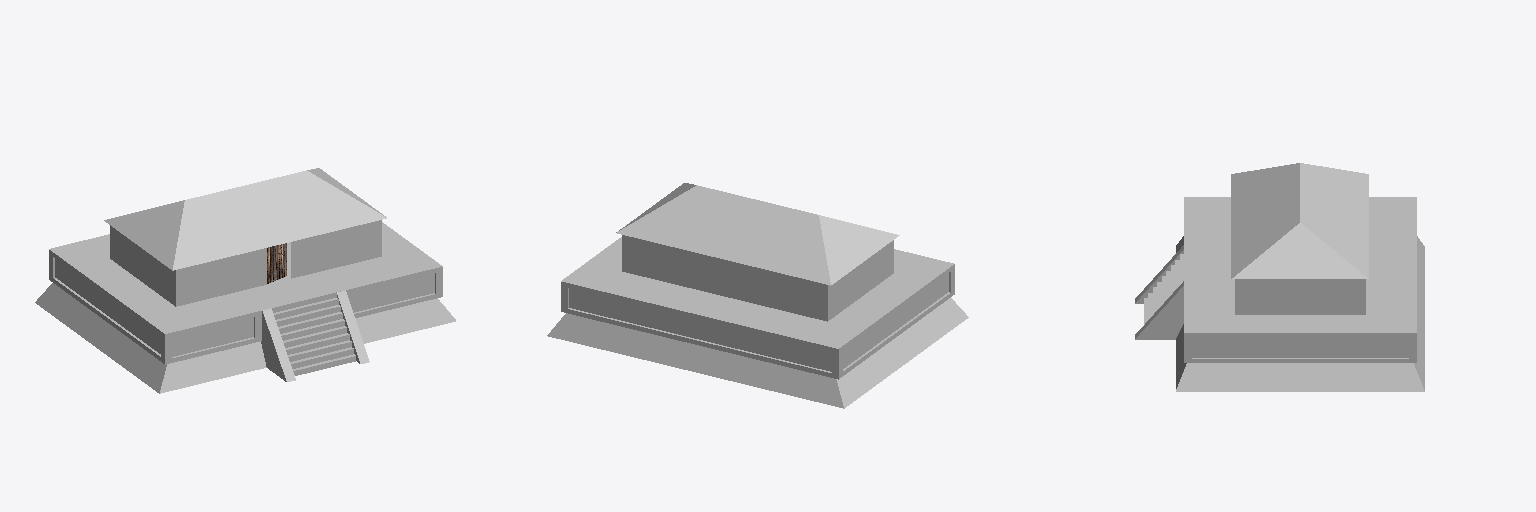
3 renders of one model, left to right at view 1: azimuth 30°, elevation 25°; view 2: azimuth 150°, elevation 25°; view 3: azimuth 270°, elevation 25°, orthographic.
Visible parts, largest first — view 1: Plane.001, Rancho_techo_, Plane, Plane.003, Plane.002, Plane.004, Puerta; view 2: Plane.001, Rancho_techo_, Plane, Plane.003; view 3: Plane.001, Rancho_techo_, Plane, Plane.003, Plane.004, Plane.002.
Boxes of the visible parts, <box> form: Plane.001: <box>49,222,442,364</box>; Rancho_techo_: <box>104,168,386,270</box>; Plane: <box>35,283,455,393</box>; Plane.003: <box>110,220,381,306</box>; Plane.002: <box>273,298,355,375</box>; Plane.004: <box>261,290,369,381</box>; Puerta: <box>267,243,286,283</box>; Plane.001: <box>561,237,954,379</box>; Rancho_techo_: <box>616,183,899,285</box>; Plane: <box>547,298,968,408</box>; Plane.003: <box>622,235,893,321</box>; Plane.001: <box>1184,197,1416,362</box>; Rancho_techo_: <box>1231,163,1368,278</box>; Plane: <box>1176,236,1424,391</box>; Plane.003: <box>1235,279,1365,314</box>; Plane.004: <box>1135,245,1183,339</box>; Plane.002: <box>1144,254,1183,324</box>.
Size of the model in its own units: 18.4 by 7.49 by 15.53.
5 materials, 1 textured.